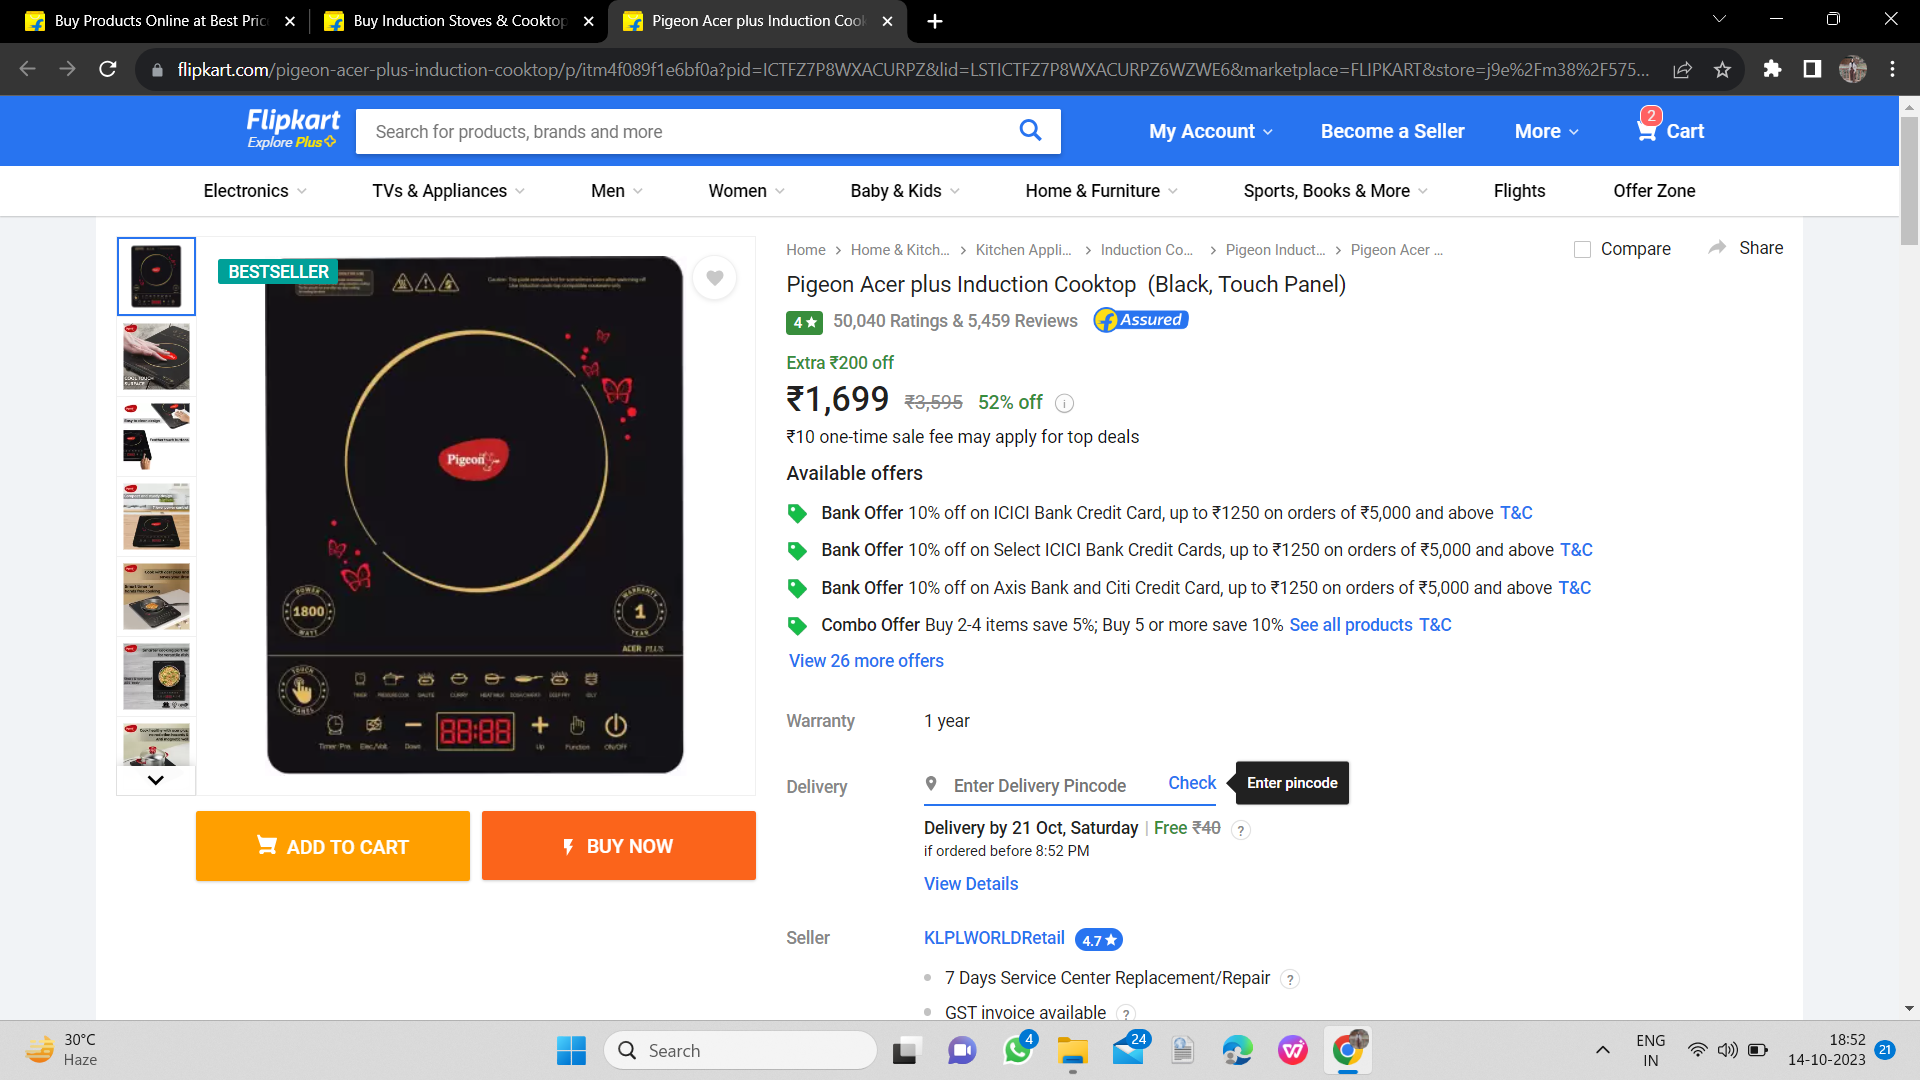Image: (210, 241, 733, 790), (345, 100, 1087, 162)
Paragraph: (781, 495, 1597, 686), (773, 756, 1374, 899), (175, 808, 764, 895), (783, 347, 1143, 451), (1124, 104, 1713, 153), (903, 965, 1309, 1019), (777, 264, 1353, 299), (770, 916, 1139, 957), (774, 306, 1205, 336), (774, 703, 988, 740), (774, 458, 923, 488)
